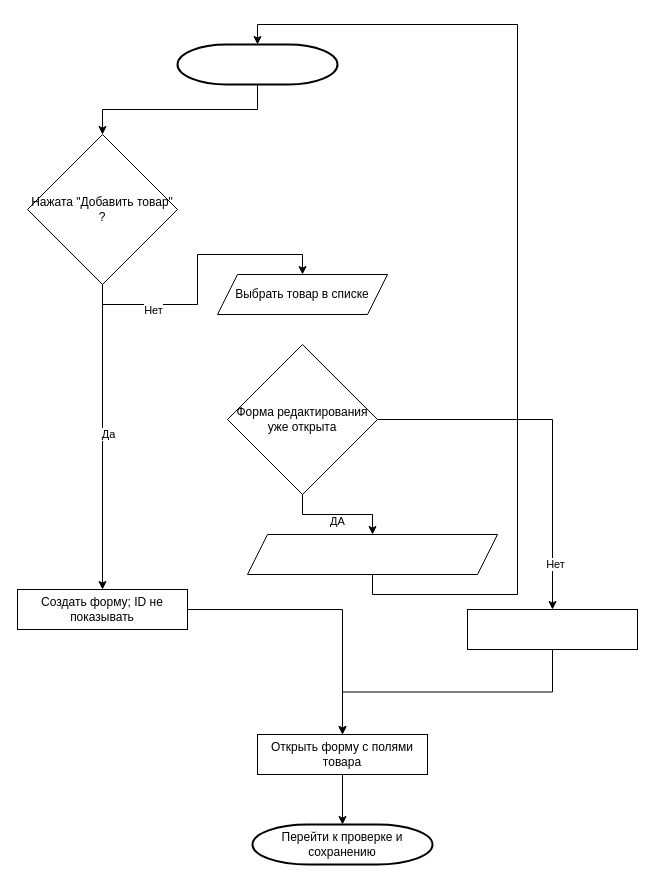
The diagram is 655 pixels wide and 883 high, and some of its shapes have lost their labels. Each missing label, with the centre of its shape:
Загрузить данные товара; ID только для чтения: the point at 552,629
Каталог администратора: the point at 257,64
Сообщение : можно открыть только одну форму: the point at 372,554
